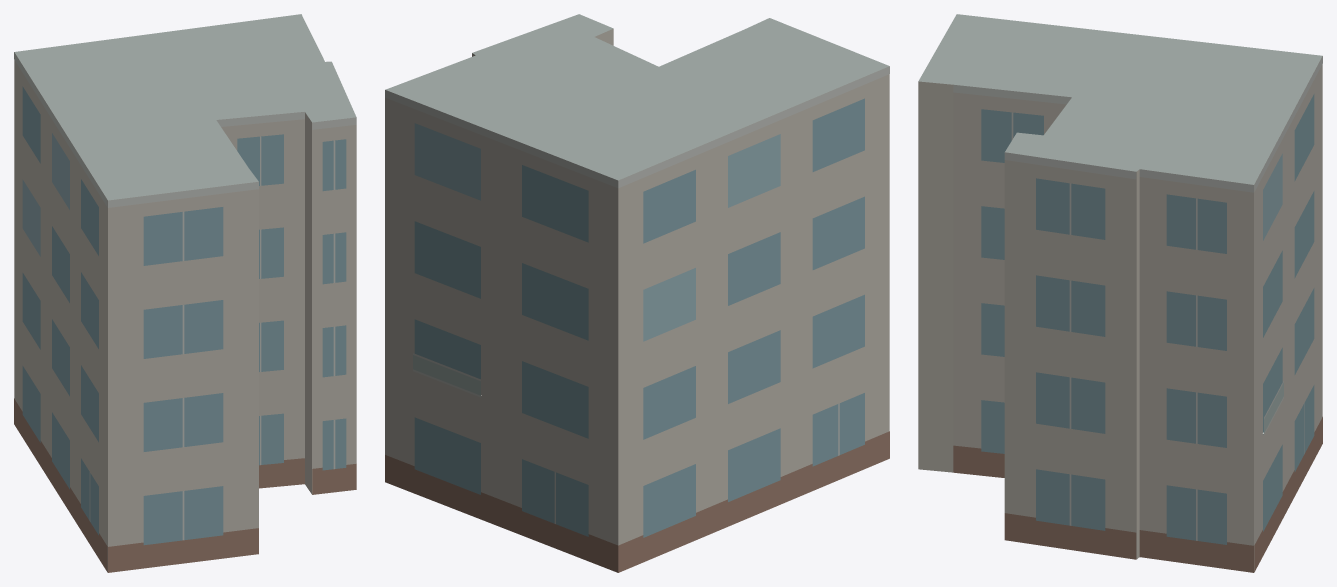
The model's file is survey-upis-32460109.glb.
3 renders of one model, left to right at view 1: azimuth 30°, elevation 25°; view 2: azimuth 150°, elevation 25°; view 3: azimuth 270°, elevation 25°, orthographic. The views are drawn at different scales.
Parts seen in each view (by area): view 1: survey-upis-32460109.tmp; view 2: survey-upis-32460109.tmp; view 3: survey-upis-32460109.tmp.
Part boxes in pixels (<box>): survey-upis-32460109.tmp: <box>14,14,356,572</box>; survey-upis-32460109.tmp: <box>385,14,889,572</box>; survey-upis-32460109.tmp: <box>918,14,1322,572</box>.
Bounding box in the file's own units: 11.54 × 12.2 × 11.54.
